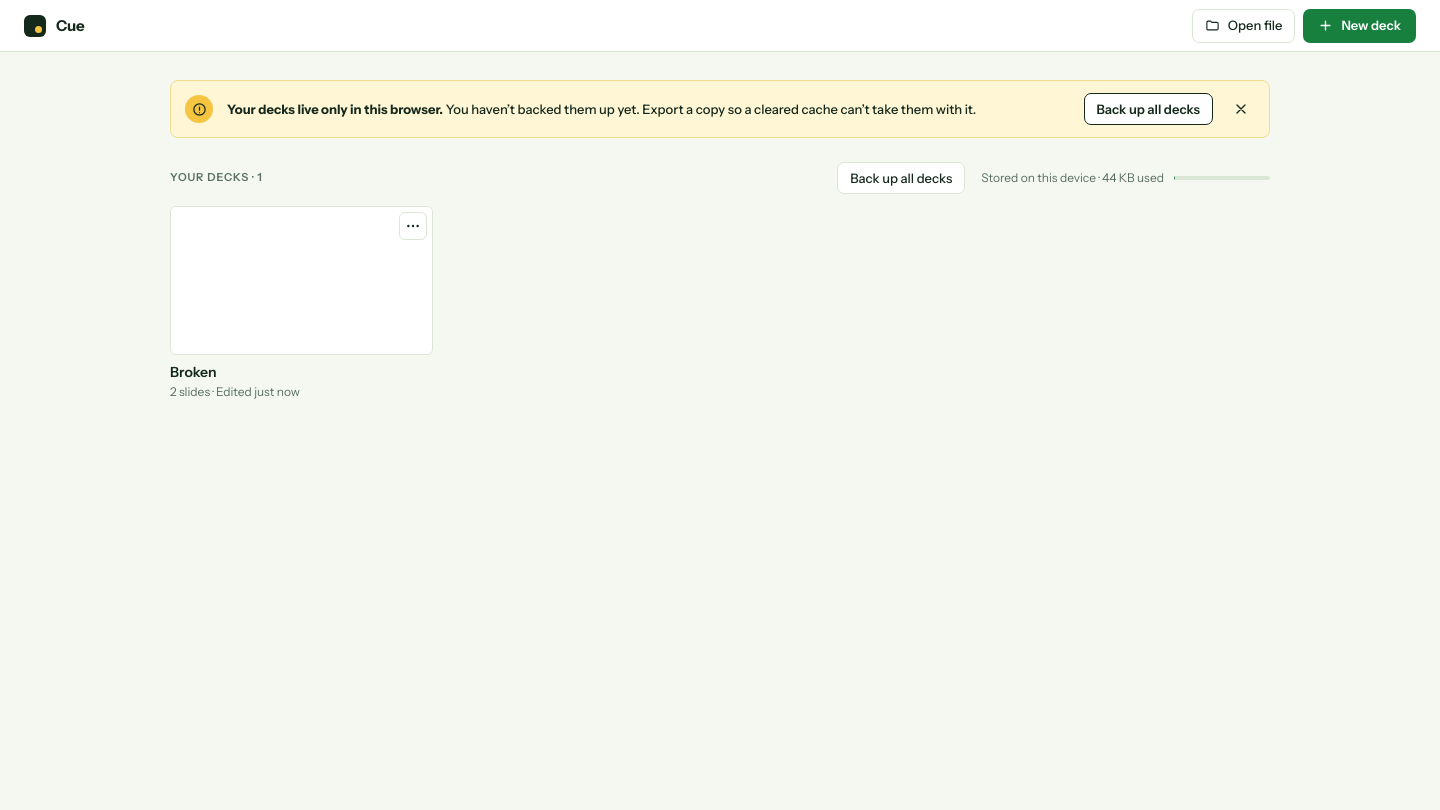
Scenario: Given a deck with a picture the store cannot give, When the page is made, Then the dialog says which slide, and nothing is saved
This screenshot has width=1440, height=810.
Click the button named "Options for Broken" at (413, 226), box [399,212,427,240]
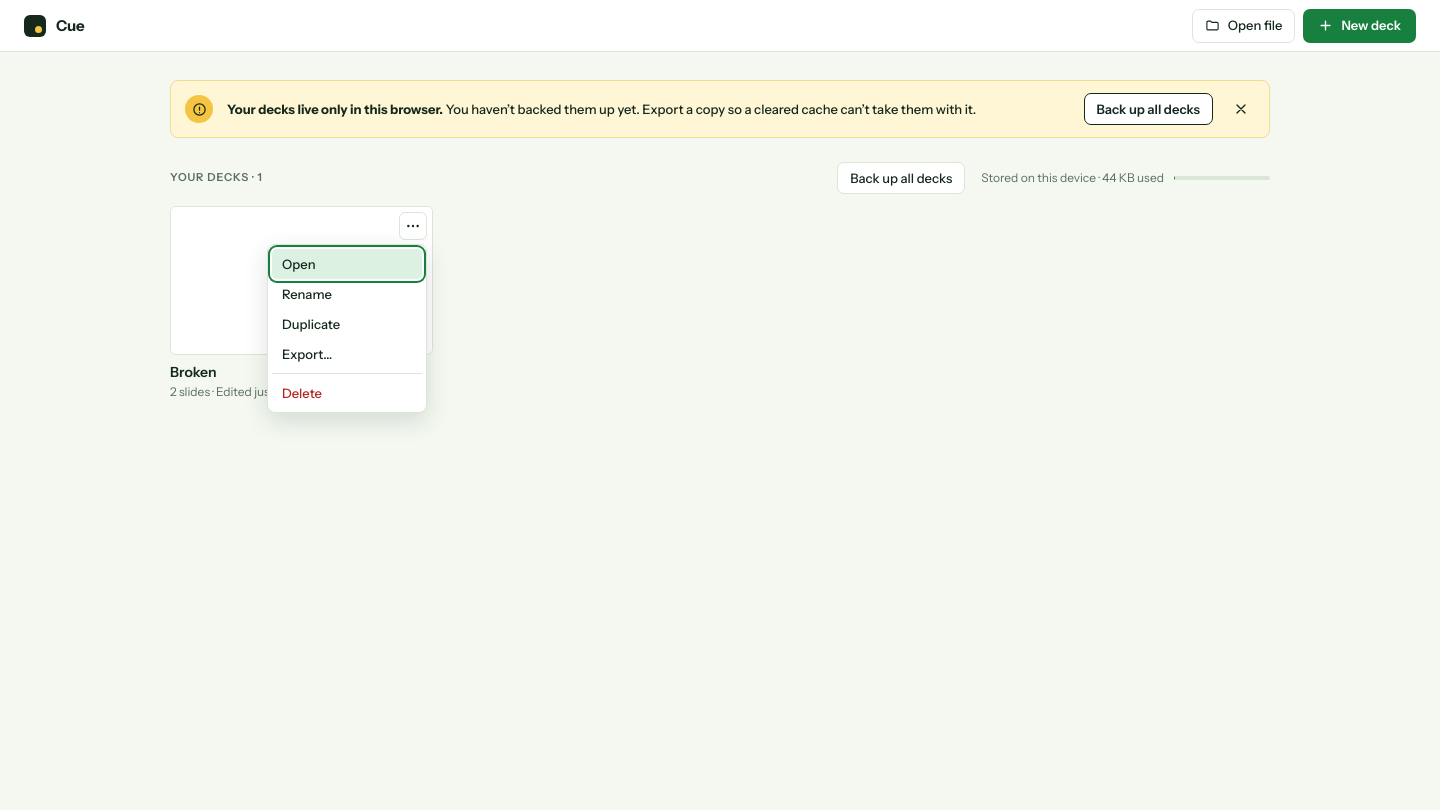
Click the menu item "Export…" at (347, 354), box [272,339,422,369]
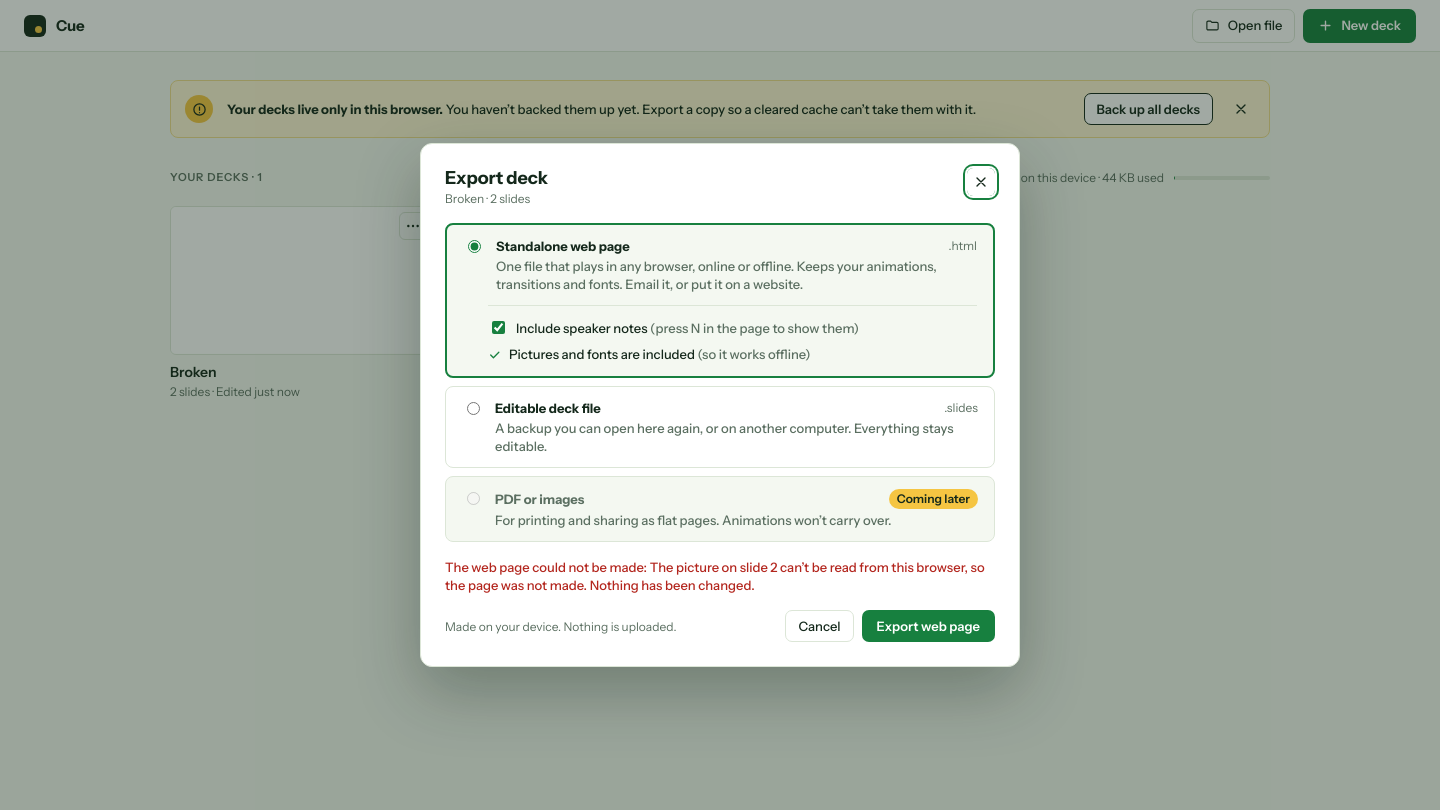
Expected: the text "The picture on slide 2 can’t be read from this browser" is shown, [445,559,985,593]
Expected: the button "Export web page" is disabled, [862,610,995,642]
